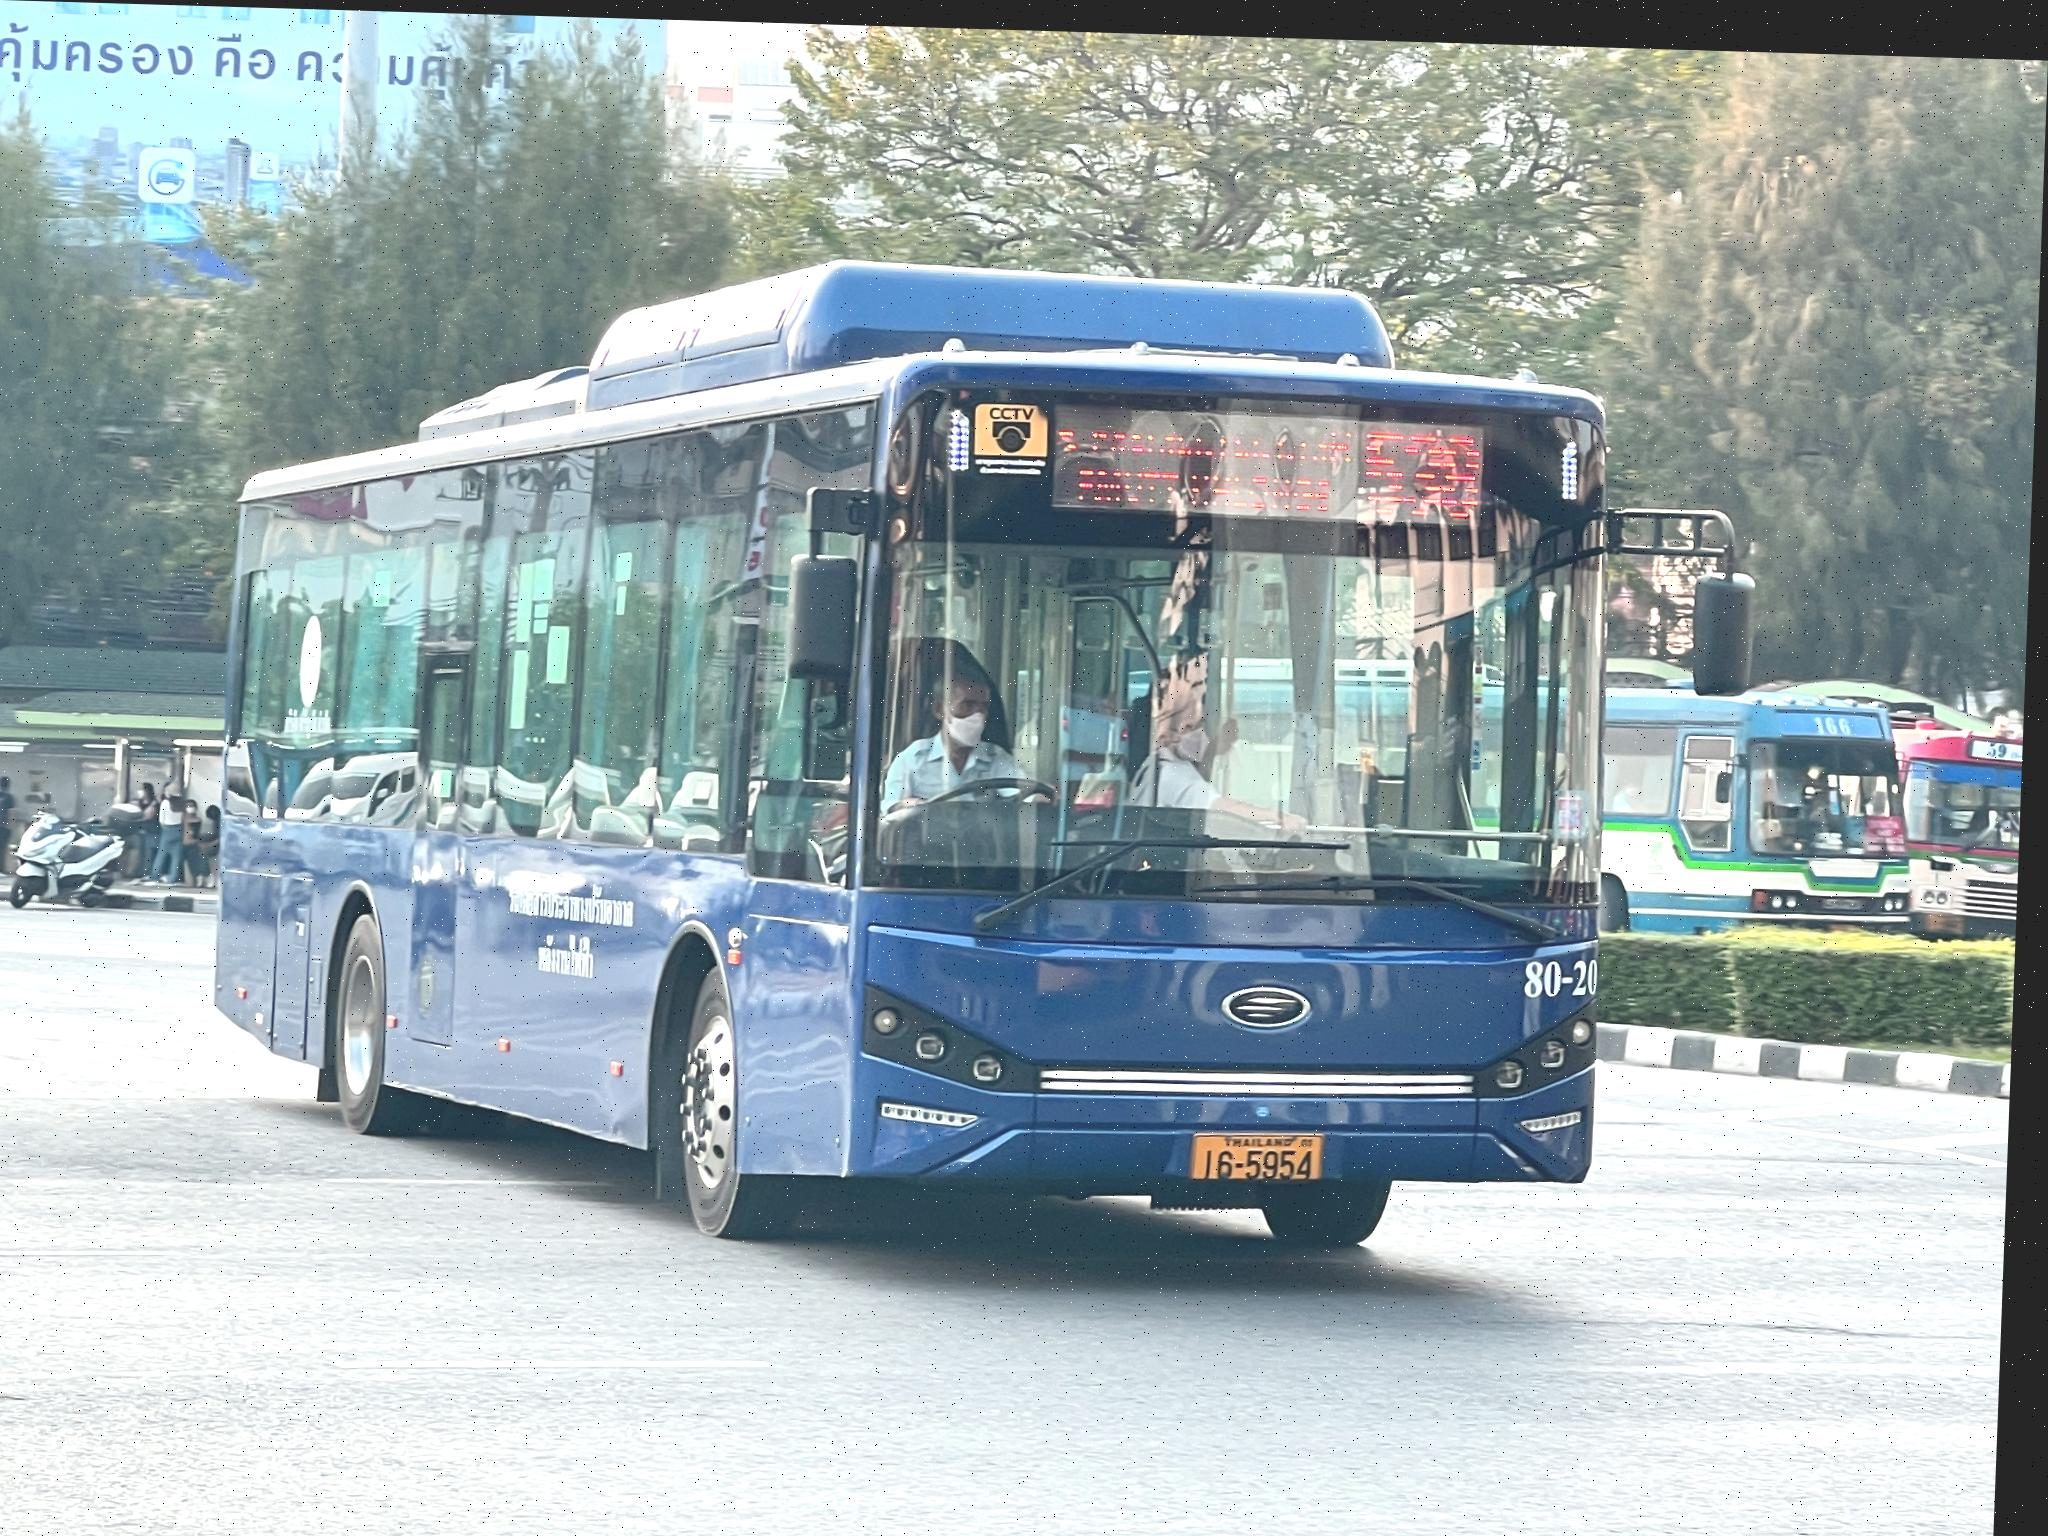Bus Line Number: (1351, 403, 1496, 528)
Bus Side Number: (1522, 942, 1621, 1002)
Destination Sign: (1045, 389, 1351, 534)
TSB-Bus: (214, 258, 1622, 1246)
